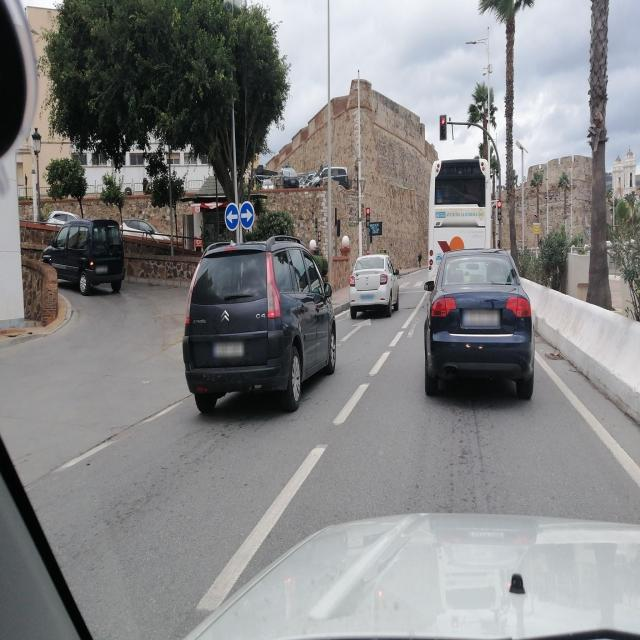car: (182, 233, 337, 415), (424, 246, 535, 400), (42, 216, 126, 296), (348, 252, 399, 319), (122, 220, 170, 251), (316, 166, 349, 188), (44, 209, 80, 229), (274, 165, 299, 189)
